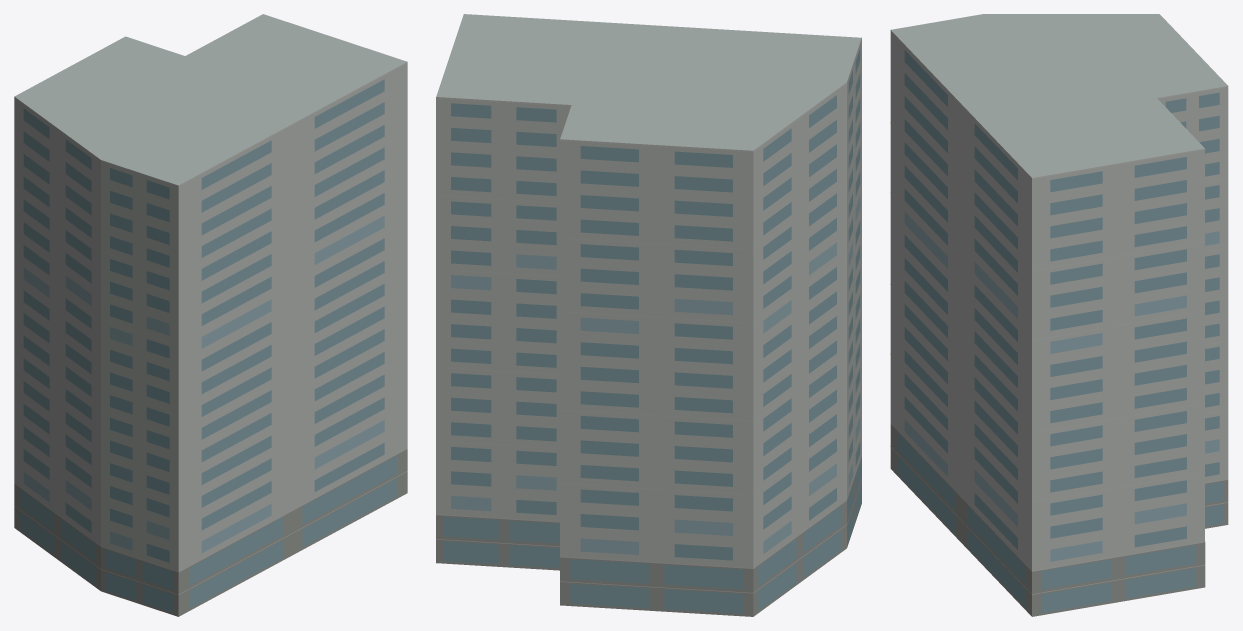
File: residential-b66e2804-3889-4651-94b3-b5e3ce3302fc.glb
The picture shows the model from 3 angles, left to right: view 1: azimuth 30°, elevation 25°; view 2: azimuth 150°, elevation 25°; view 3: azimuth 270°, elevation 25°; orthographic projection. The views are drawn at different scales.
Parts seen in each view (by area): view 1: residential-b66e2804-3889-4651-94b3-b5e3ce3302fc.tmp; view 2: residential-b66e2804-3889-4651-94b3-b5e3ce3302fc.tmp; view 3: residential-b66e2804-3889-4651-94b3-b5e3ce3302fc.tmp.
Part boxes in pixels (x1=…): residential-b66e2804-3889-4651-94b3-b5e3ce3302fc.tmp: x1=14, y1=14, x2=407, y2=616; residential-b66e2804-3889-4651-94b3-b5e3ce3302fc.tmp: x1=436, y1=14, x2=861, y2=616; residential-b66e2804-3889-4651-94b3-b5e3ce3302fc.tmp: x1=890, y1=14, x2=1228, y2=616.
Size of the model in its own units: 55.36 by 69 by 48.17.
